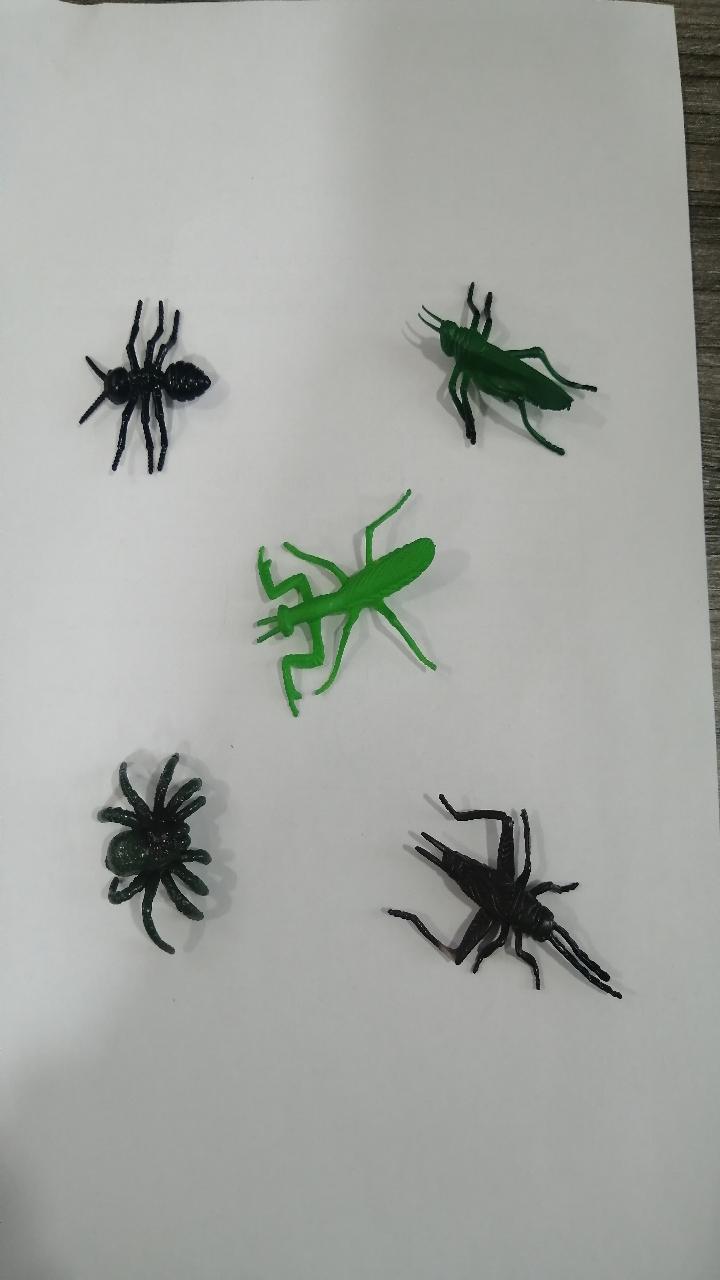intruso: (368, 760, 631, 1037), (217, 472, 452, 720), (377, 254, 626, 480), (37, 280, 234, 499), (71, 729, 244, 969)
